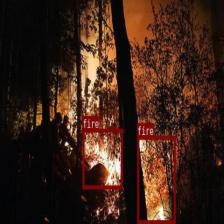fire: (137, 135, 175, 223), (82, 128, 122, 188)
